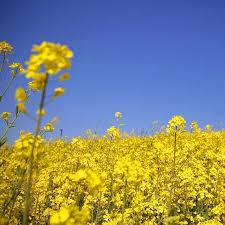flower: (1, 115, 223, 225)
sky: (1, 1, 225, 133)
